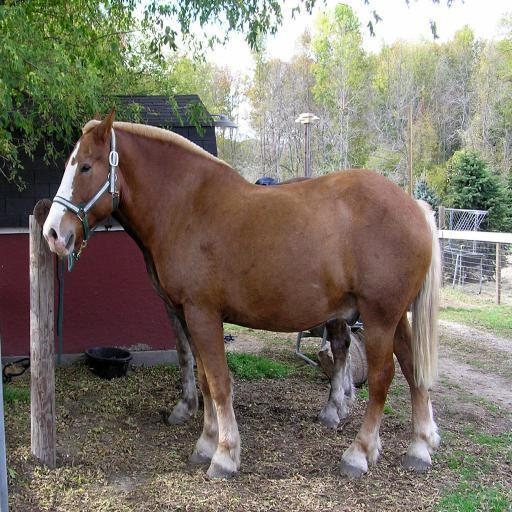horse: (43, 101, 443, 482)
